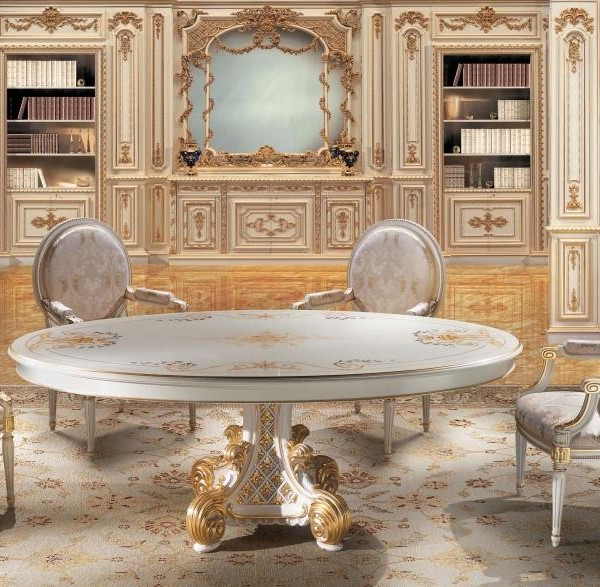Carving Table: (17, 309, 536, 582)
